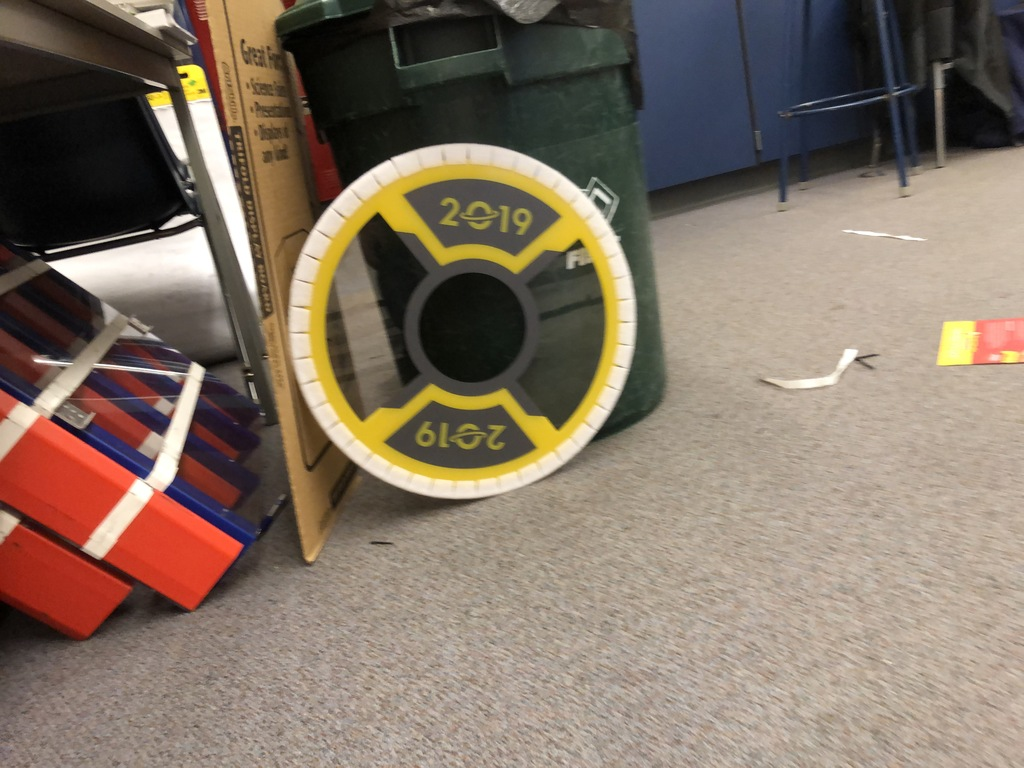hatch_panel: (279, 134, 648, 524)
